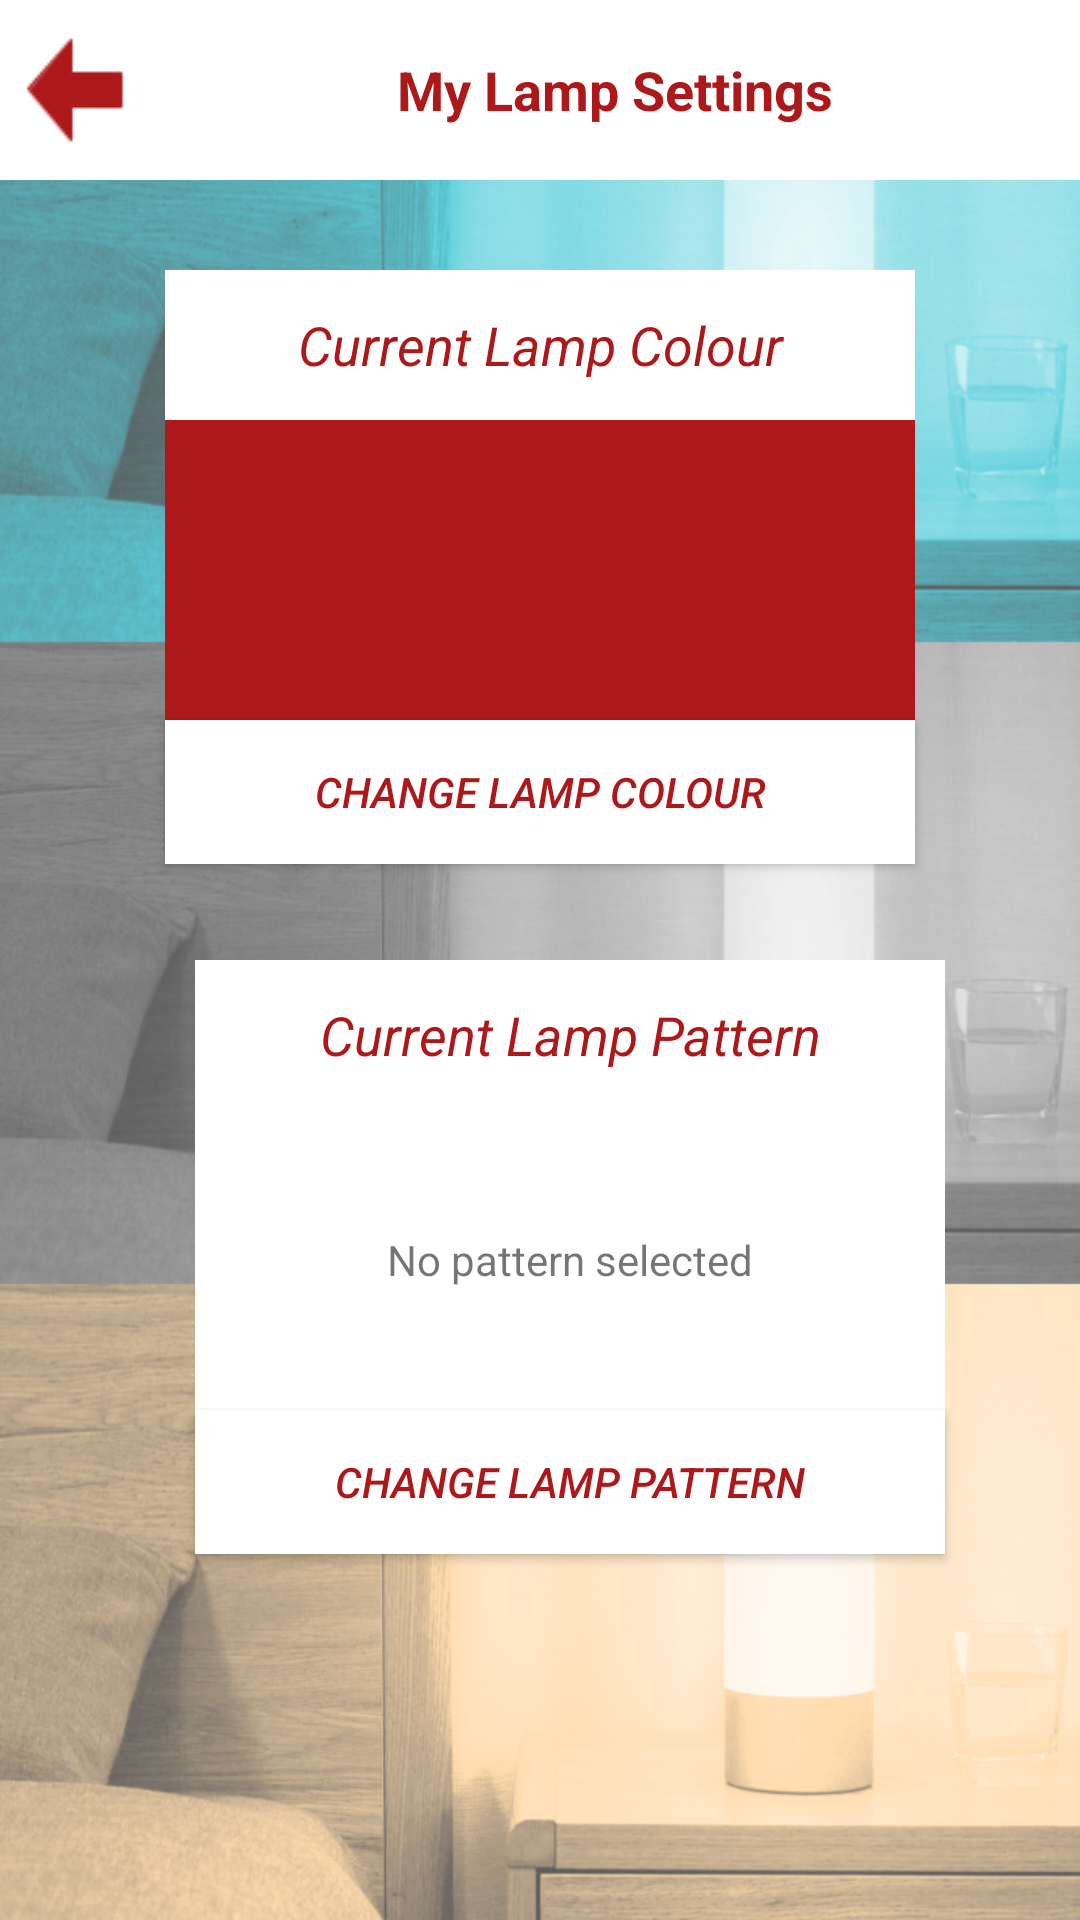

Named icons in this screenshot (1080w x 1920h) and their centers, (x=x, y=y):
back: (x=75, y=90)
